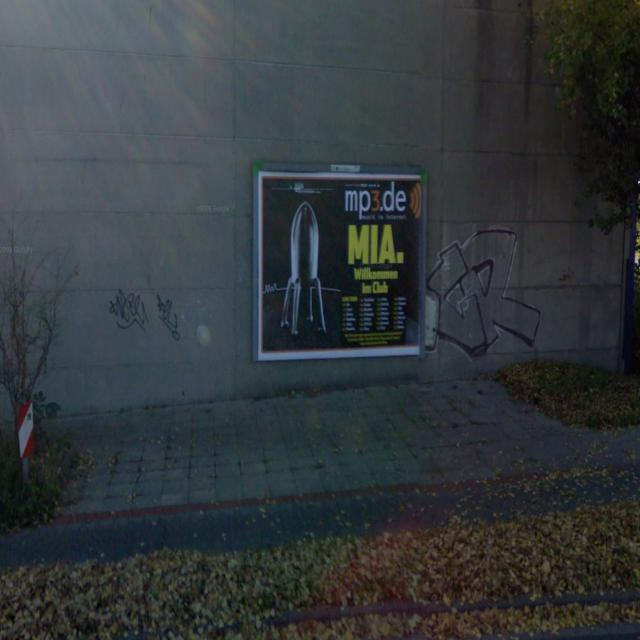Werbetafel frei: (251, 164, 430, 364)
